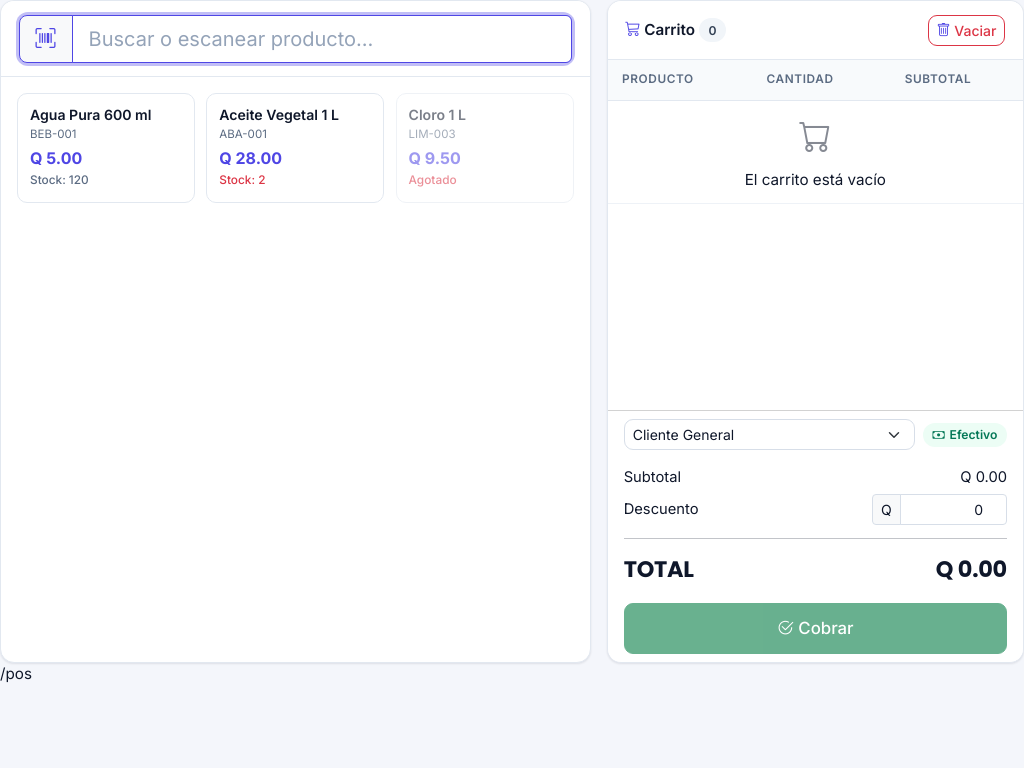
Test case: Punto de venta › no deja vender más que el stock y deshabilita los agotados
Click the button "Aceite Vegetal 1 L ABA-001 Q 28.00 Stock: 2" at (295, 148), box x1=206 y1=93 x2=384 y2=203
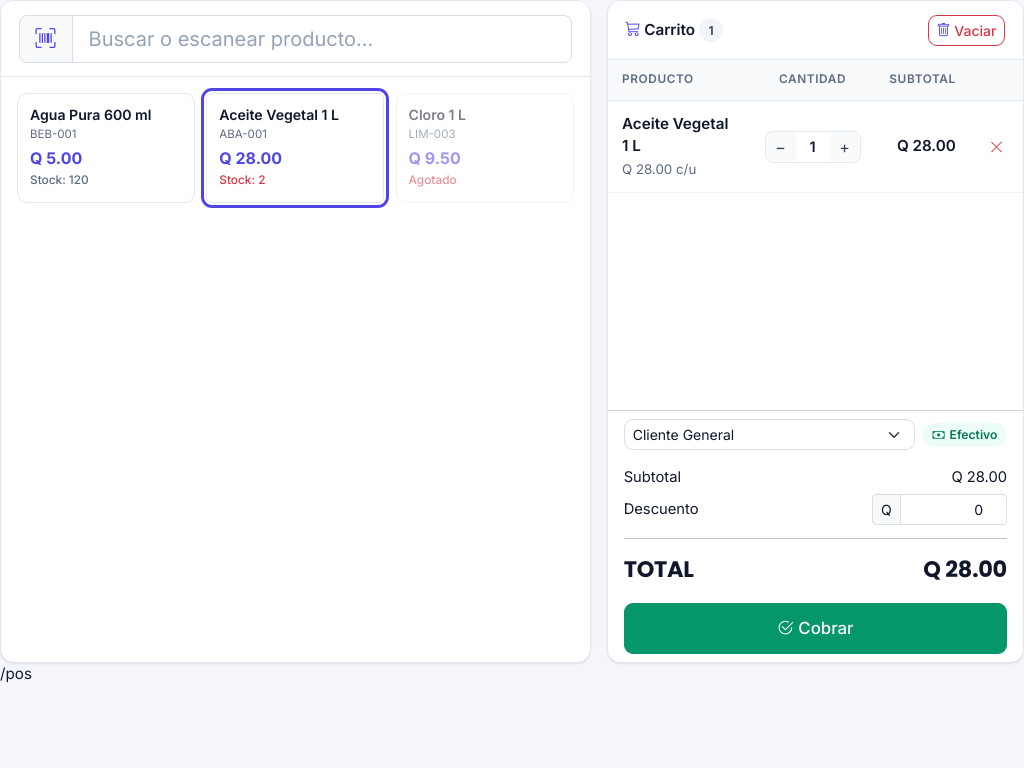
Click the button "Aceite Vegetal 1 L ABA-001 Q 28.00 Stock: 2" at (295, 148), box x1=206 y1=93 x2=384 y2=203
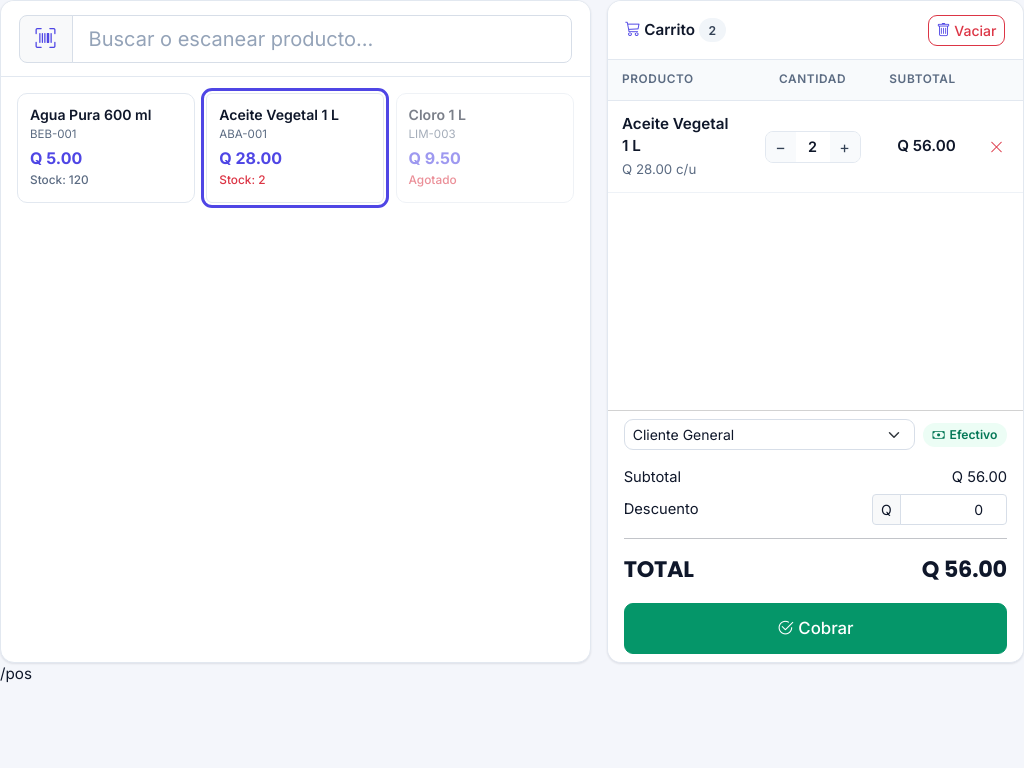
Click the button "Aceite Vegetal 1 L ABA-001 Q 28.00 Stock: 2" at (295, 148), box x1=206 y1=93 x2=384 y2=203
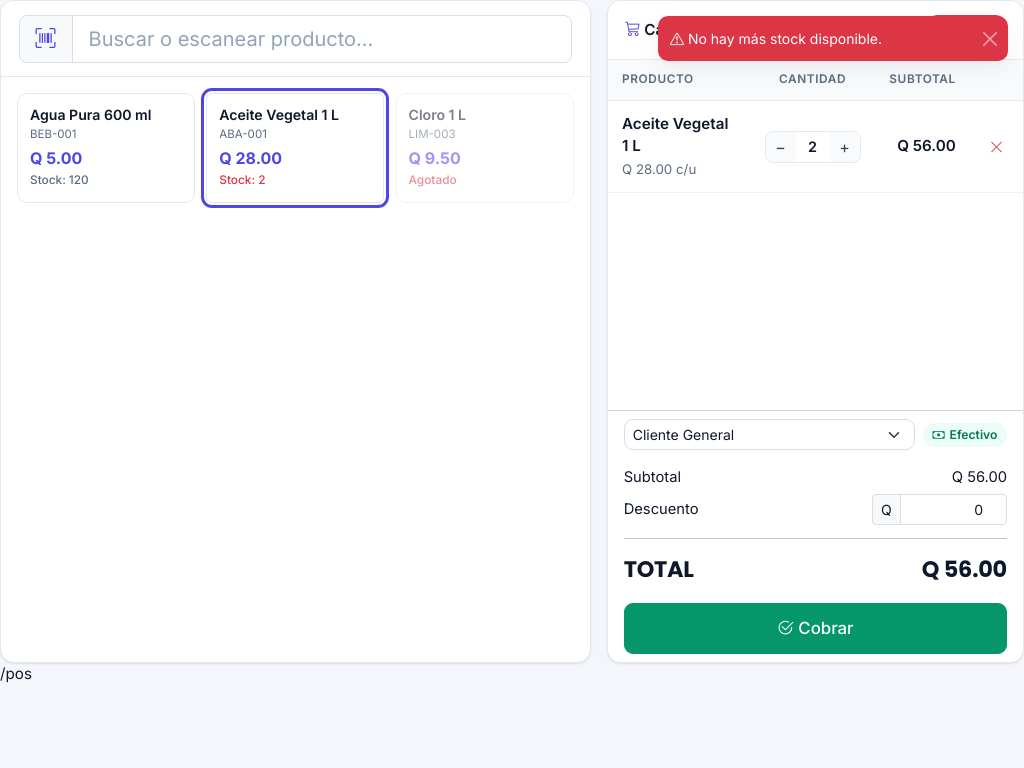
Check: the button with aria-label "Agregar Cloro" is disabled, box x1=396 y1=93 x2=574 y2=203
Check: the text "No hay más stock disponible." is shown, box x1=670 y1=30 x2=882 y2=47
